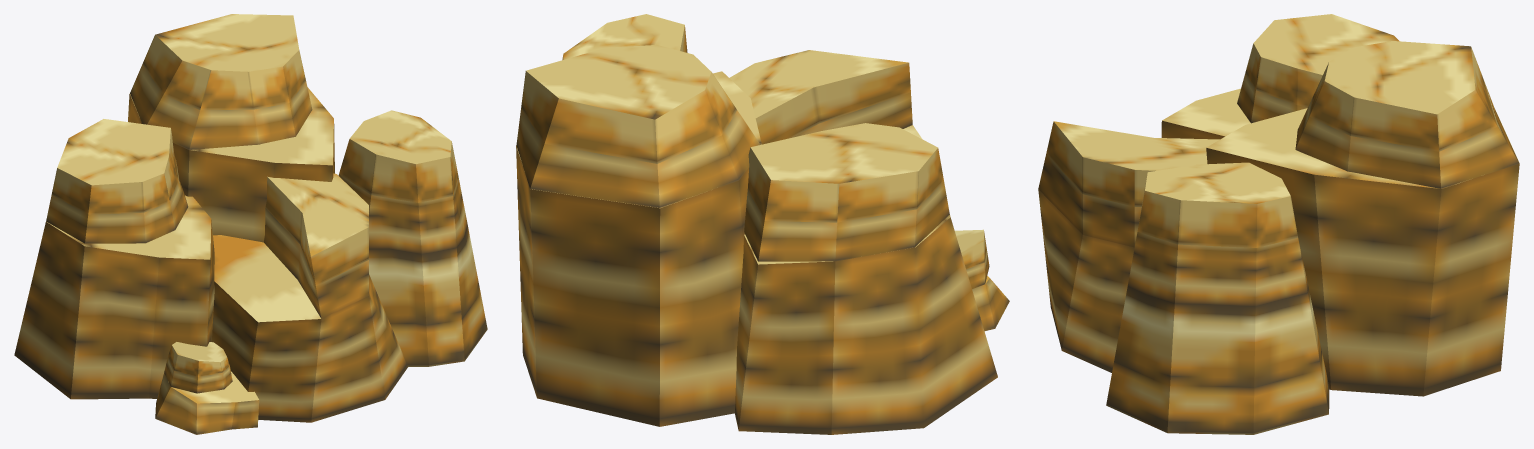
File: Poly_World_Map_Mountain_Canyon_01.obj
3 renders of one model, left to right at view 1: azimuth 30°, elevation 25°; view 2: azimuth 150°, elevation 25°; view 3: azimuth 270°, elevation 25°, orthographic. The views are drawn at different scales.
Parts seen in each view (by area): view 1: Cube.002_Cube.004, Cube.002_Cube.001; view 2: Cube.002_Cube.004, Cube.002_Cube.001; view 3: Cube.002_Cube.004.
Boxes of the visible parts, <box> form: Cube.002_Cube.004: <box>14,14,487,422</box>; Cube.002_Cube.001: <box>155,342,259,434</box>; Cube.002_Cube.004: <box>516,14,997,434</box>; Cube.002_Cube.001: <box>955,229,1009,331</box>; Cube.002_Cube.004: <box>1038,14,1519,434</box>.
Bounding box in the file's own units: 1.55 × 0.9439 × 1.48.
Materials: 1 (1 with a texture image).
